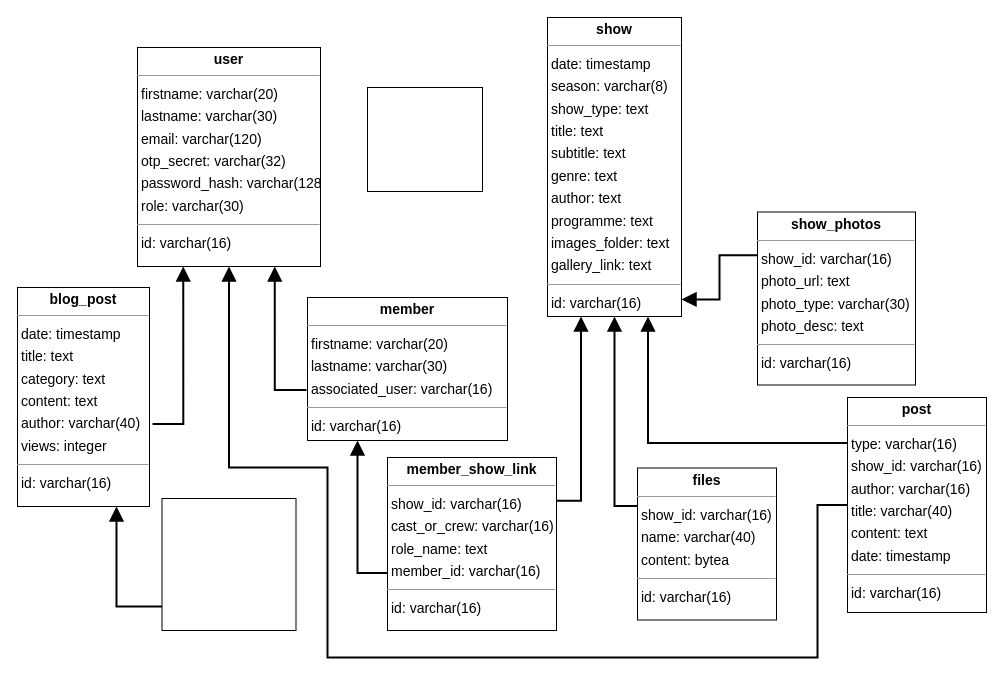
This 1004x688 diagram has some shape labels left out. The centre of each missing label's shape, as x and y in pixels:
"blog_image image: bytea blog_id: varchar(16) image_no: integer" belongs at (228,564).
"key_value value: text key: varchar(32)" belongs at (424,139).
